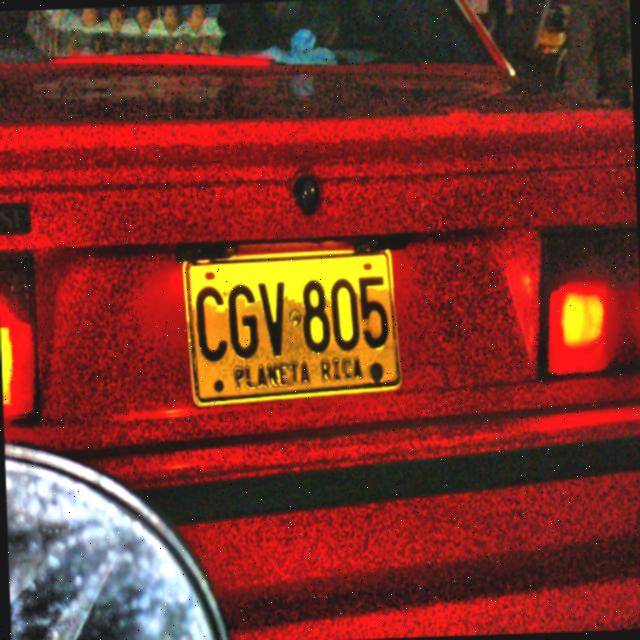plate: (185, 252, 399, 404)
